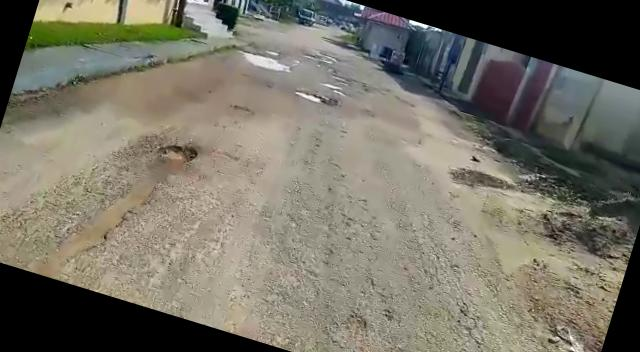pothole: (152, 135, 200, 176), (240, 48, 296, 77), (290, 86, 332, 108)
